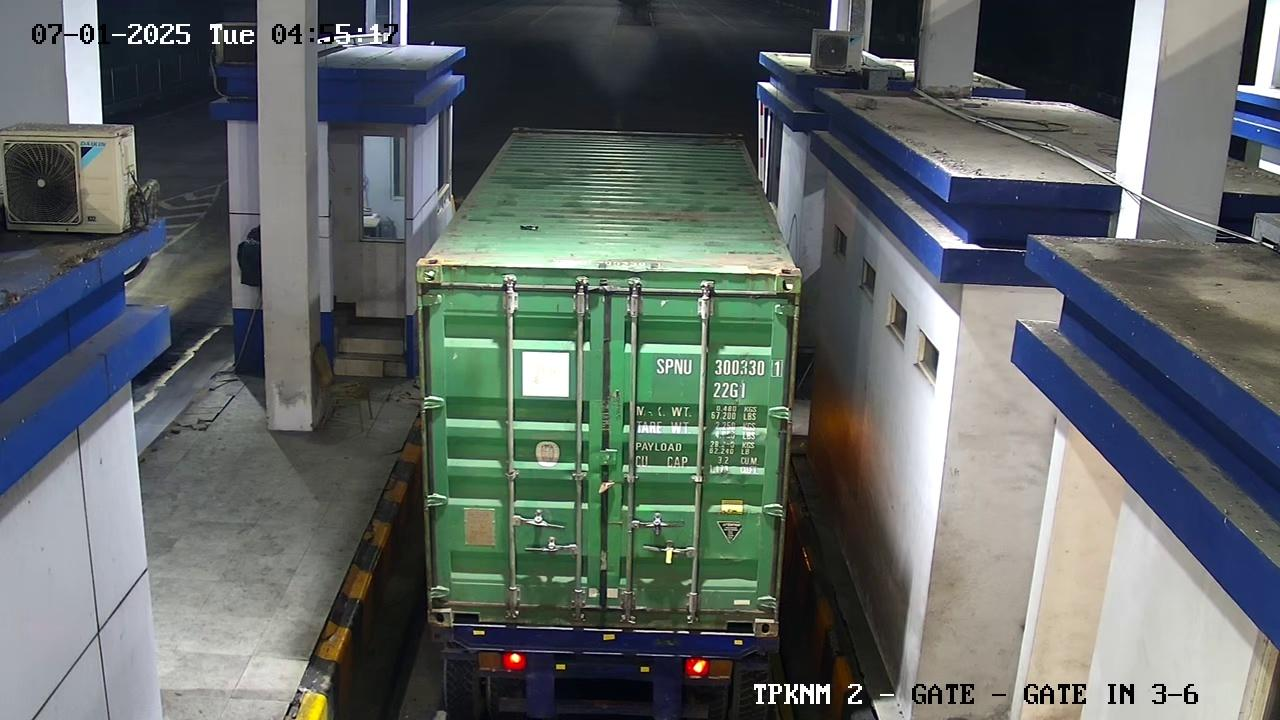Container_ID: (633, 348, 788, 405)
